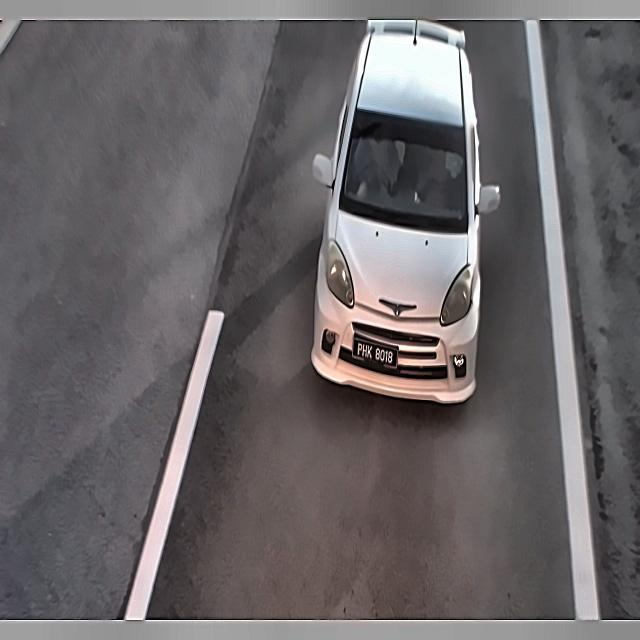car: (346, 331, 405, 371)
